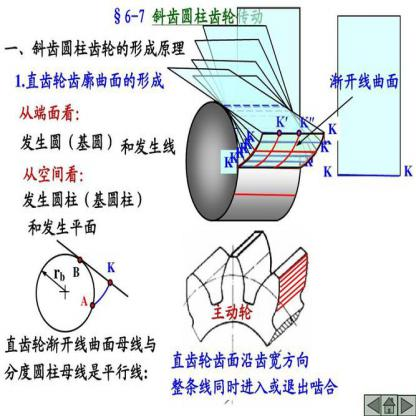FOD: (185, 225, 311, 346)
